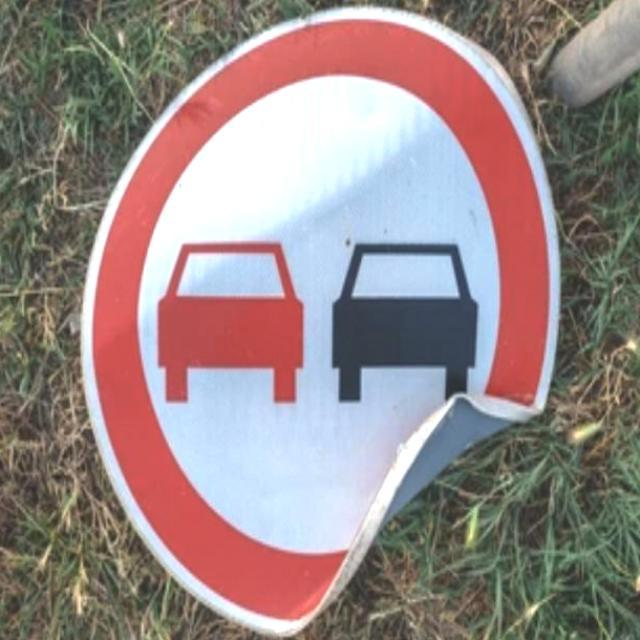Bending: (0, 0, 640, 640)
Damage: (0, 0, 640, 640)
